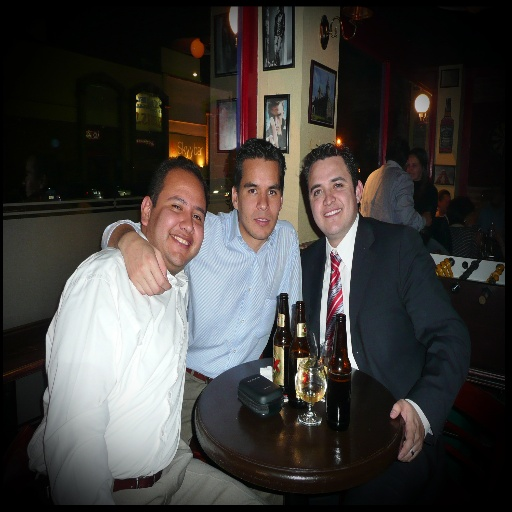hand: (118, 231, 172, 297), (388, 396, 425, 464), (423, 210, 432, 228)
